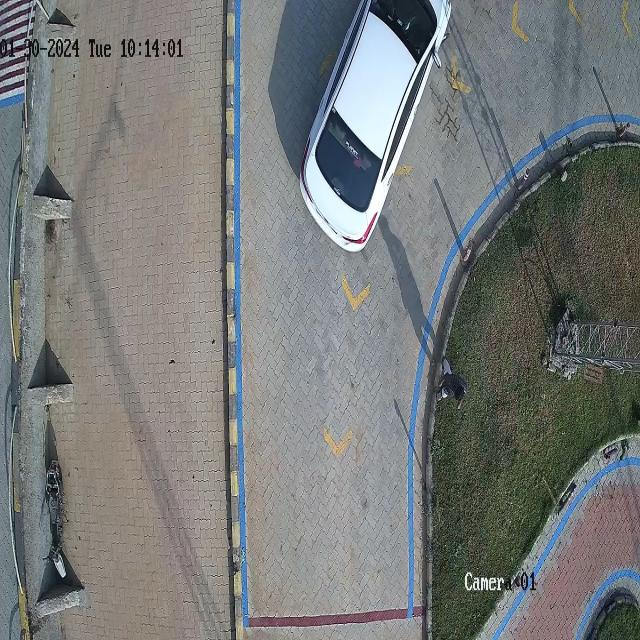car: (300, 0, 451, 252)
